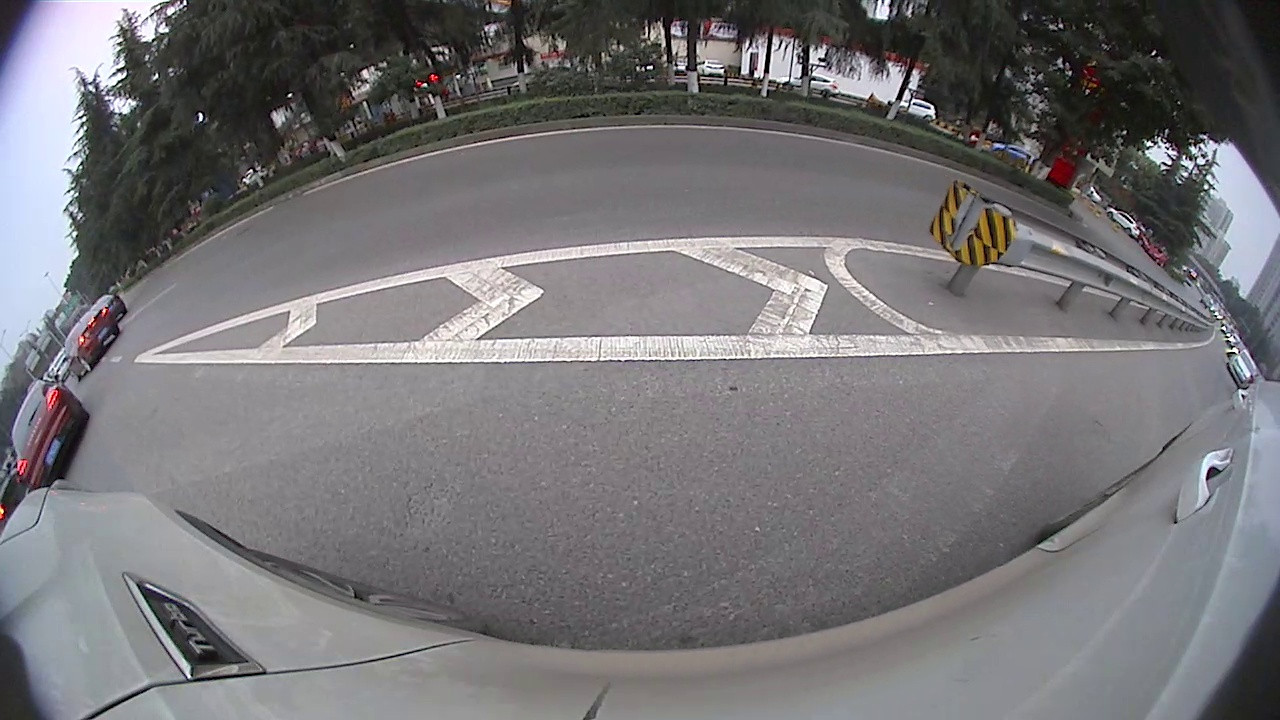car: (9, 379, 88, 493), (61, 302, 121, 382), (1226, 347, 1263, 390)
rear: (78, 356, 95, 375)
